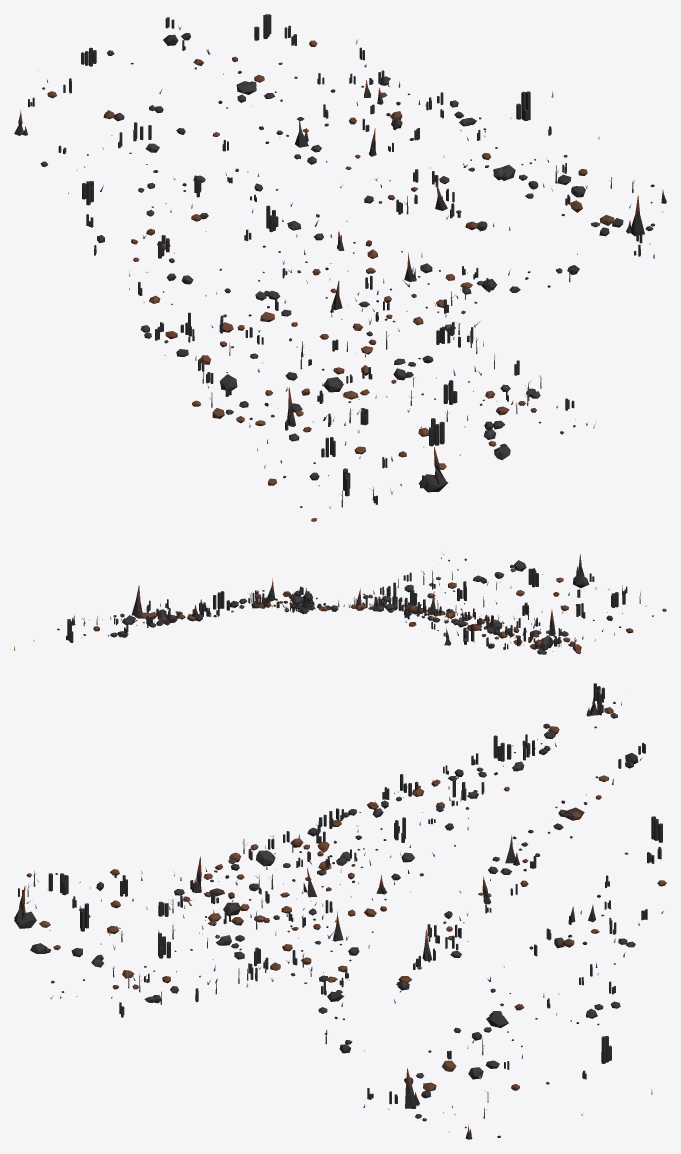
File: ash_land_scatter_c21_29_lod1.glb
3 views of the same model, one above another, from view 1: azimuth 30°, elevation 25°; view 2: azimuth 150°, elevation 25°; view 3: azimuth 270°, elevation 25° (orthographic). The views are drawn at different scales.
Visible parts, largest first — view 1: ash_land_scatter_c21_29_lod1; view 2: ash_land_scatter_c21_29_lod1; view 3: ash_land_scatter_c21_29_lod1.
Boxes of the visible parts, left/top/right/bottom form: ash_land_scatter_c21_29_lod1: left=14, top=14, right=666, bottom=521; ash_land_scatter_c21_29_lod1: left=14, top=551, right=666, bottom=654; ash_land_scatter_c21_29_lod1: left=14, top=683, right=666, bottom=1139.
Bounding box in the file's own units: 257 × 98.99 × 258.
